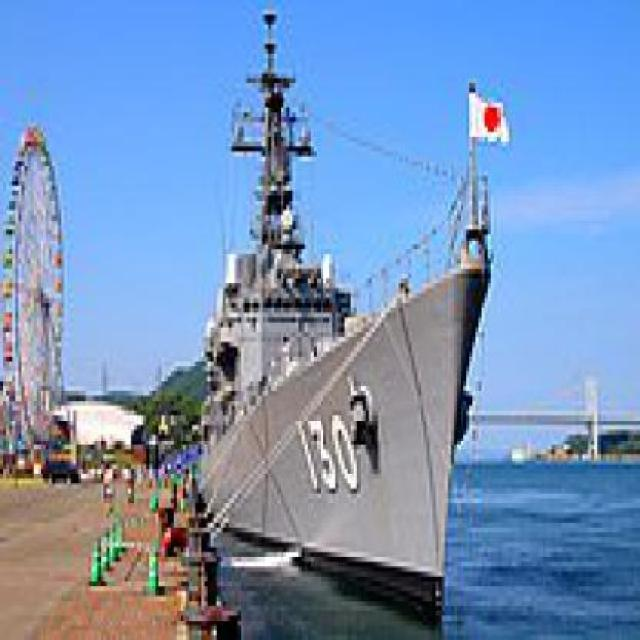warship2: (193, 6, 507, 632)
